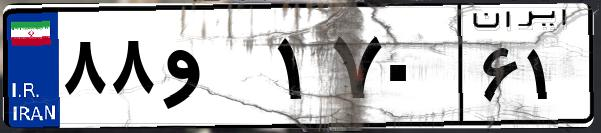0: (385, 28, 445, 110)
1: (270, 28, 330, 110), (525, 38, 570, 115)
6: (475, 38, 525, 113)
7: (330, 28, 385, 110)
8: (57, 26, 110, 100), (110, 28, 158, 98)
و: (158, 20, 270, 120)
